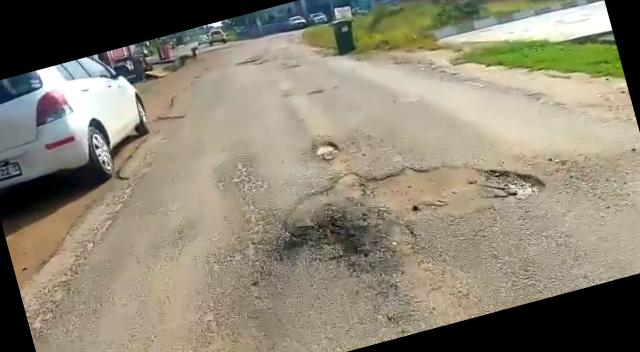pothole: (274, 124, 551, 268), (306, 138, 344, 168)
